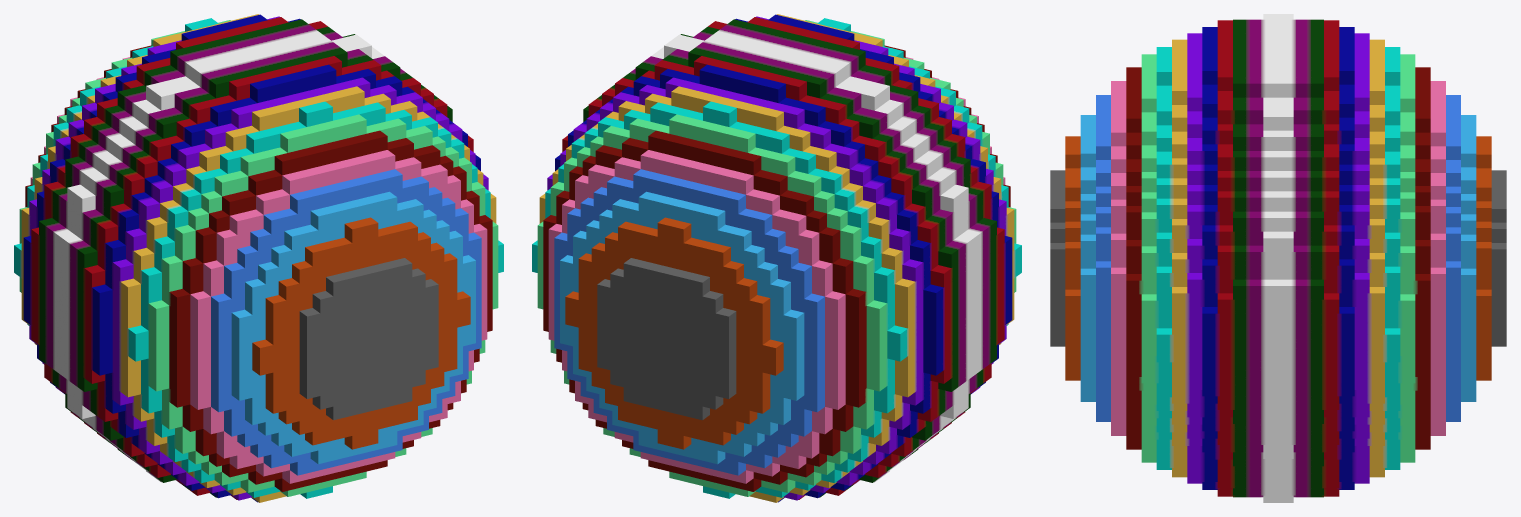
The model's file is Character_10.fbx.
The picture shows the model from 3 angles, left to right: view 1: azimuth 30°, elevation 25°; view 2: azimuth 150°, elevation 25°; view 3: azimuth 270°, elevation 25°; orthographic projection.
Parts seen in each view (by area): view 1: Character_10; view 2: Character_10; view 3: Character_10.
Boxes of the visible parts, bbox=[...] form: Character_10: bbox=[14, 14, 503, 502]; Character_10: bbox=[532, 14, 1021, 502]; Character_10: bbox=[1050, 14, 1506, 502].
Bounding box in the file's own units: 30 × 30 × 30.
Materials: 1 (1 with a texture image).
